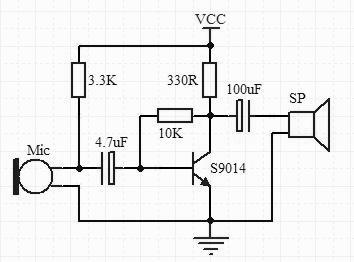cap1: (97, 148, 117, 188), (234, 97, 253, 135)
gnd: (191, 233, 231, 257)
res1: (69, 59, 89, 100), (155, 107, 196, 126), (200, 60, 219, 100)
triode: (189, 147, 215, 193)
